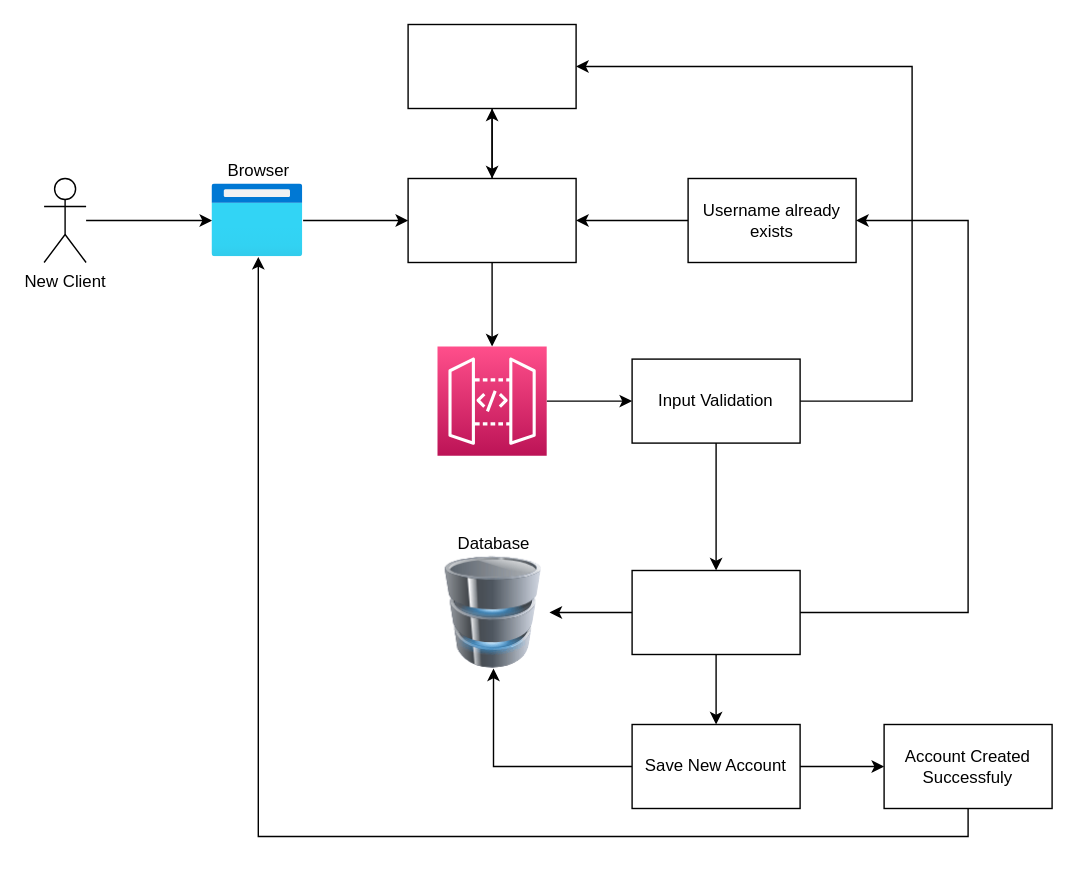
This 1077x872 diagram has some shape labels left out. The shapes that lost their labels are listed below. From the top down, each one's box as (x1, y1, x2, y2) in pixels, then its label:
(407, 23, 576, 108): Bad Input
(407, 177, 576, 262): Create New Account
(436, 345, 547, 456): API
(631, 569, 800, 654): Already Registered Check
